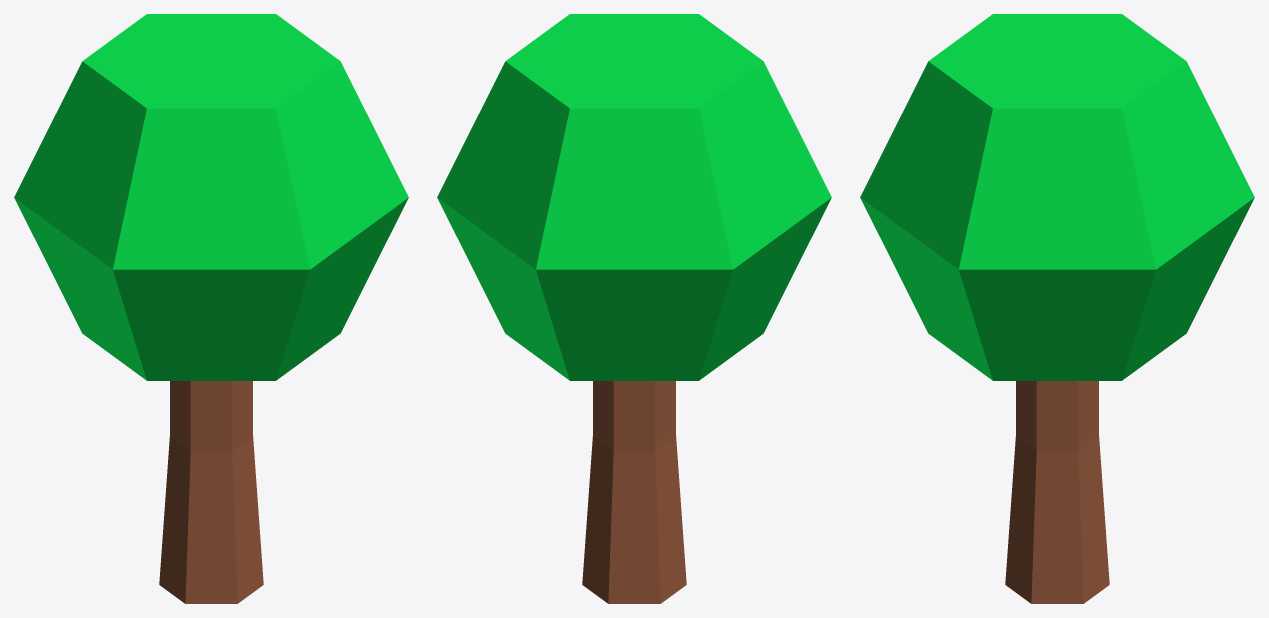
The model's file is tree_a_green.fbx.
3 renders of one model, left to right at view 1: azimuth 30°, elevation 25°; view 2: azimuth 150°, elevation 25°; view 3: azimuth 270°, elevation 25°, orthographic.
Parts seen in each view (by area): view 1: treetop_a_green, trunk_a_green; view 2: treetop_a_green, trunk_a_green; view 3: treetop_a_green, trunk_a_green.
Part boxes in pixels (x1,y1,x2,y2): treetop_a_green: (14,14,408,380); trunk_a_green: (159,381,263,603); treetop_a_green: (437,14,831,380); trunk_a_green: (582,381,686,603); treetop_a_green: (860,14,1254,380); trunk_a_green: (1005,381,1109,603).
Bounding box in the file's own units: 655 × 1106 × 756.
